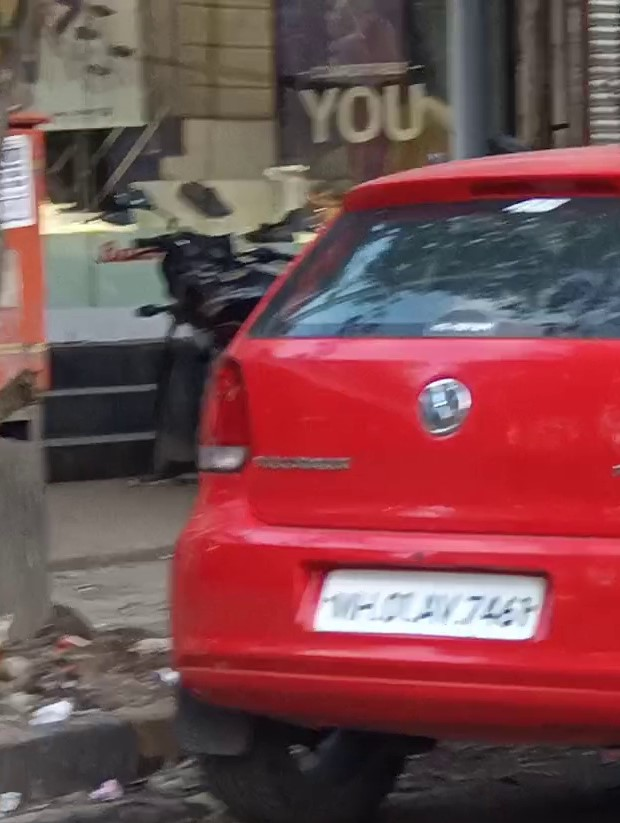MH01AV7461: (310, 564, 547, 640)
